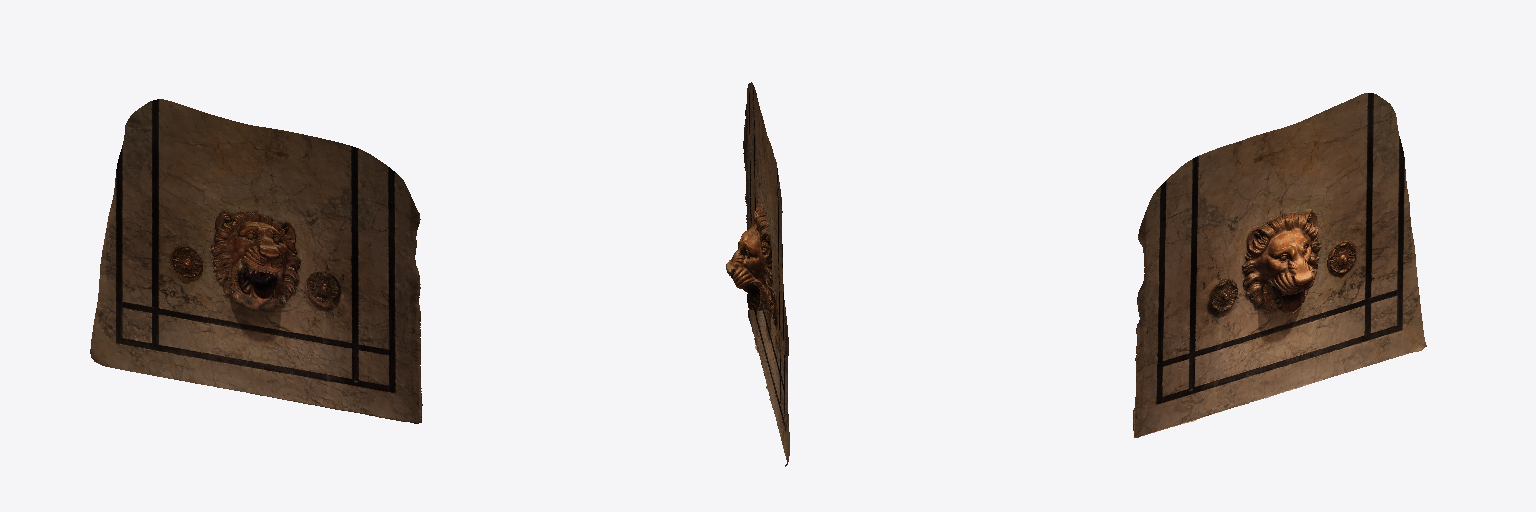
3 views of the same model, side by side, from view 1: azimuth 30°, elevation 25°; view 2: azimuth 150°, elevation 25°; view 3: azimuth 270°, elevation 25° (orthographic).
Size of the model in its own units: 16.47 by 23.23 by 22.43.
1 materials, 1 textured.